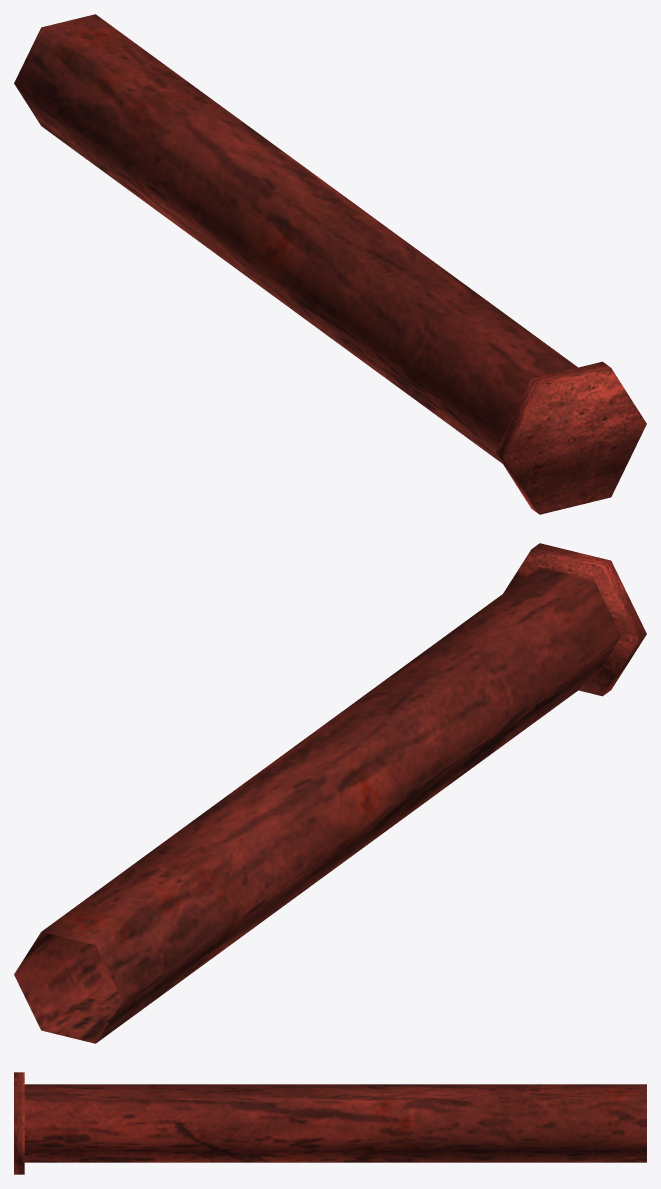
The model's file is small_red_4.fbx.
3 views of the same model, one above another, from view 1: azimuth 30°, elevation 25°; view 2: azimuth 150°, elevation 25°; view 3: azimuth 270°, elevation 25° (orthographic). The views are drawn at different scales.
Parts seen in each view (by area): view 1: polySurface634; view 2: polySurface634; view 3: polySurface634.
Part boxes in pixels (x1,y1,x2,y2): polySurface634: [14, 14, 646, 514]; polySurface634: [14, 543, 646, 1043]; polySurface634: [14, 1072, 646, 1174].
Bounding box in the file's own units: 0.6563 × 0.5683 × 4.03.
